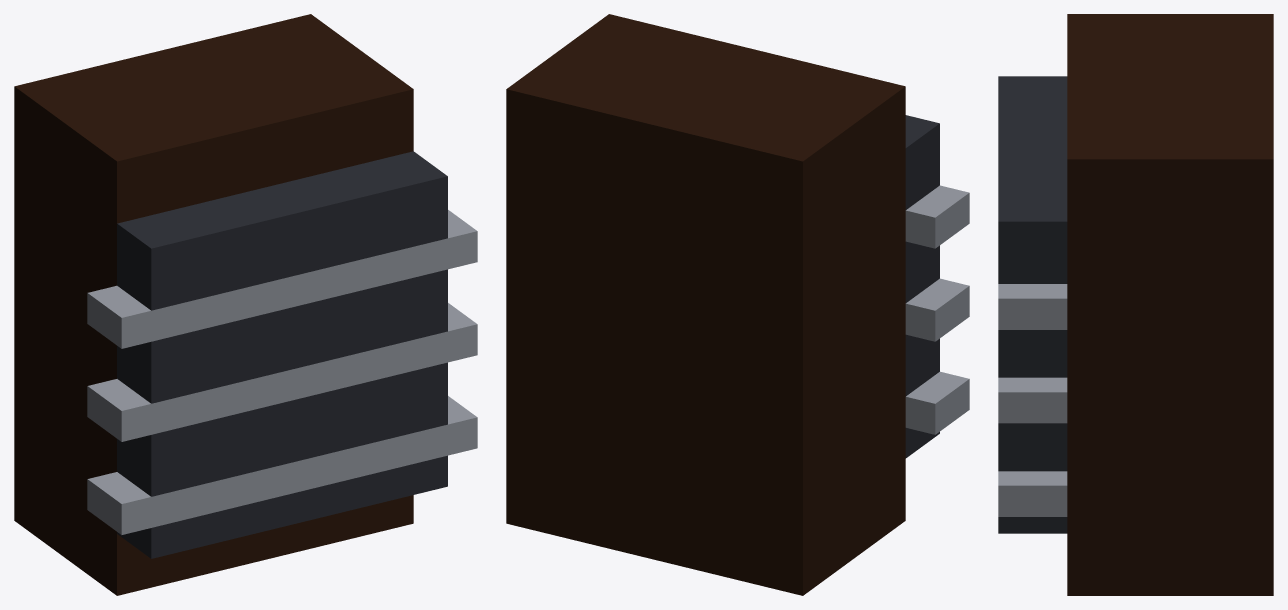
The model's file is steel_cestus.glb.
The picture shows the model from 3 angles, left to right: view 1: azimuth 30°, elevation 25°; view 2: azimuth 150°, elevation 25°; view 3: azimuth 270°, elevation 25°; orthographic projection.
Visible parts, largest first — view 1: steel_cestus; view 2: steel_cestus; view 3: steel_cestus.
Part boxes in pixels (x1,y1,x2,y2): steel_cestus: [14, 14, 477, 595]; steel_cestus: [506, 14, 969, 595]; steel_cestus: [998, 14, 1273, 595].
Bounding box in the file's own units: 0.18 × 0.21 × 0.12.
